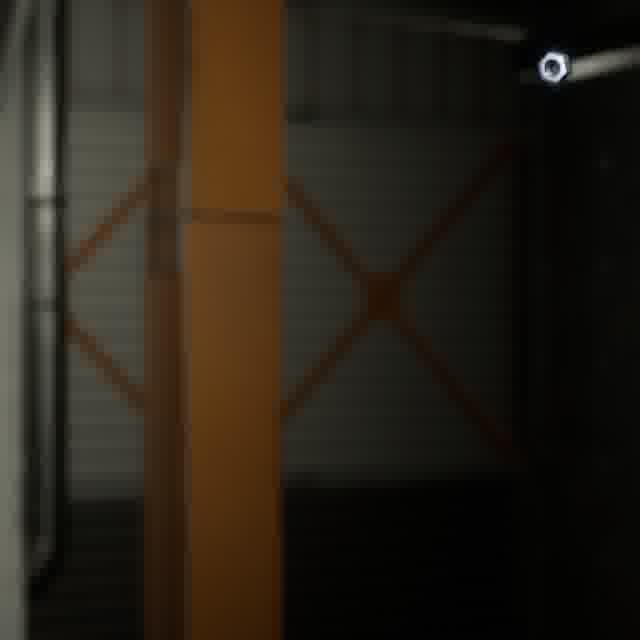nut: (533, 46, 576, 88)
